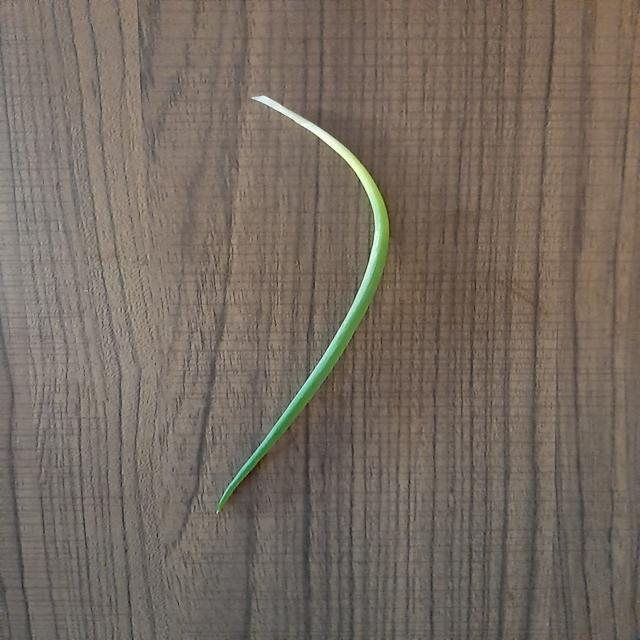onion: (217, 95, 390, 512)
